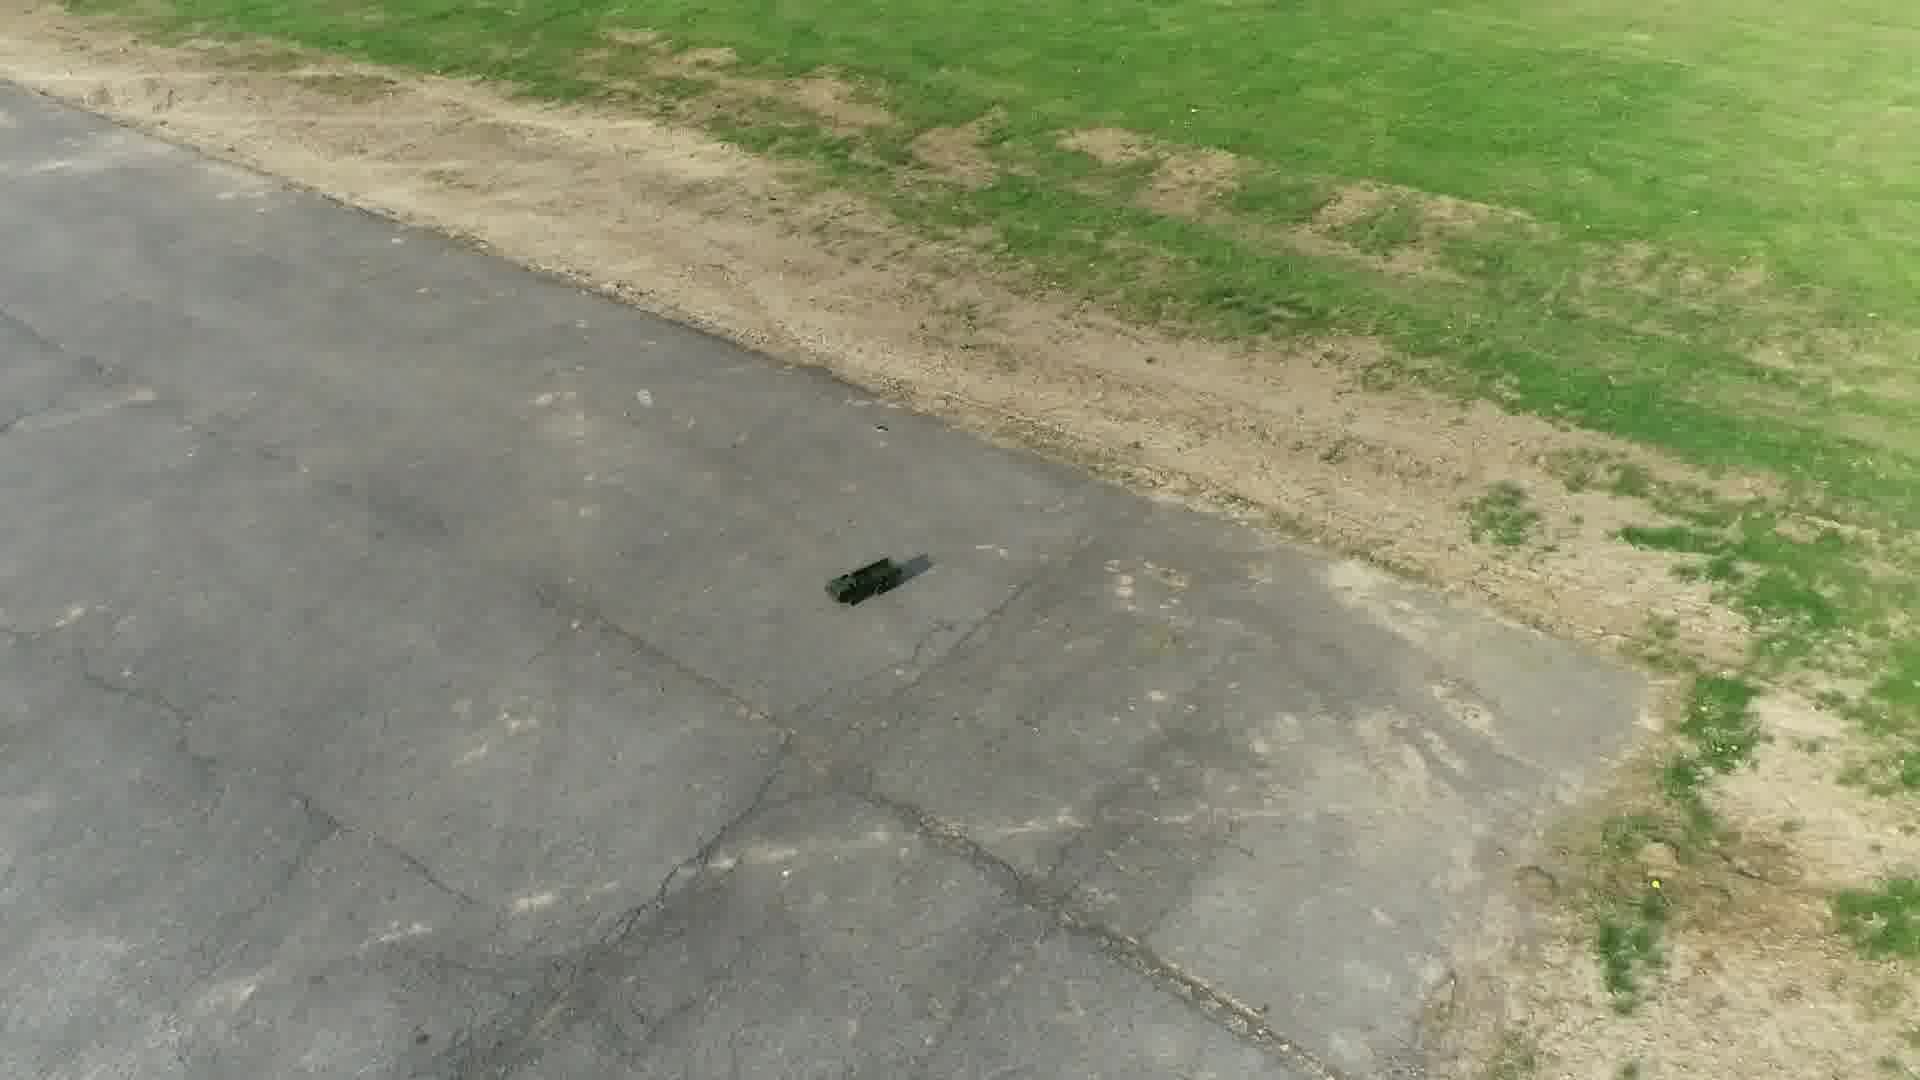transporter9: (822, 553, 906, 609)
